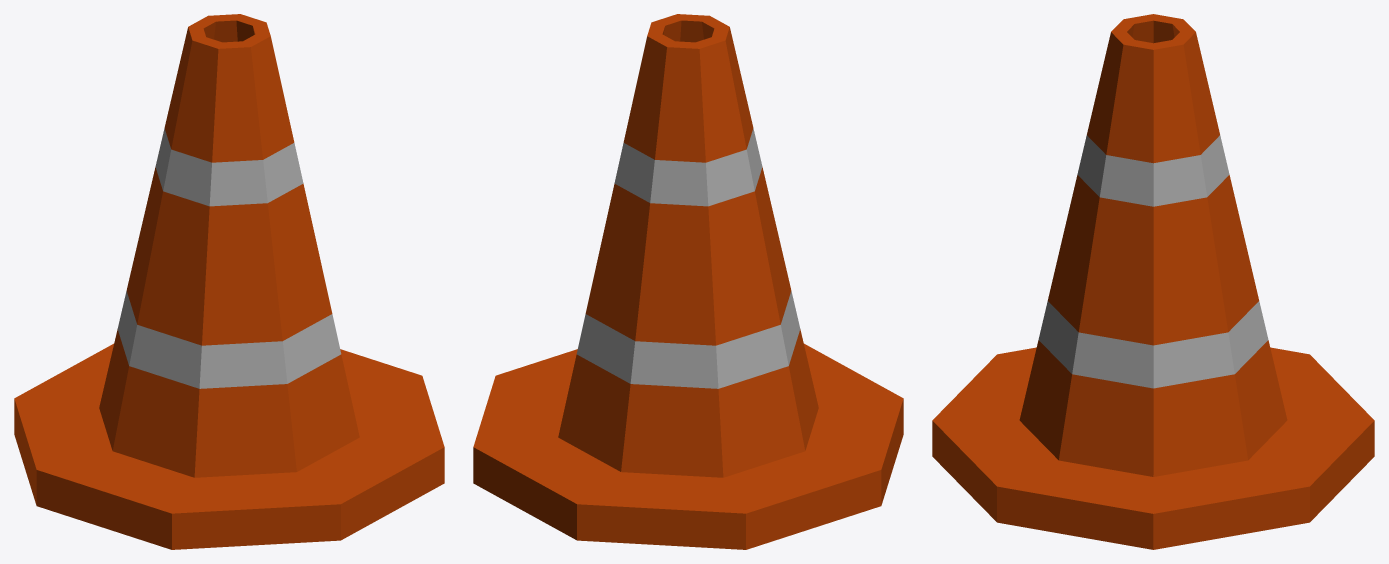
Rendered from trafficcone123.fbx.
3 views of the same model, side by side, from view 1: azimuth 30°, elevation 25°; view 2: azimuth 150°, elevation 25°; view 3: azimuth 270°, elevation 25° (orthographic).
Visible parts, largest first — view 1: Circle; view 2: Circle; view 3: Circle.
Boxes of the visible parts, x1,y1,x2,y2 form: Circle: (14,14,444,549); Circle: (473,14,903,549); Circle: (932,14,1374,549).
Bounding box in the file's own units: 218 × 231 × 218.
